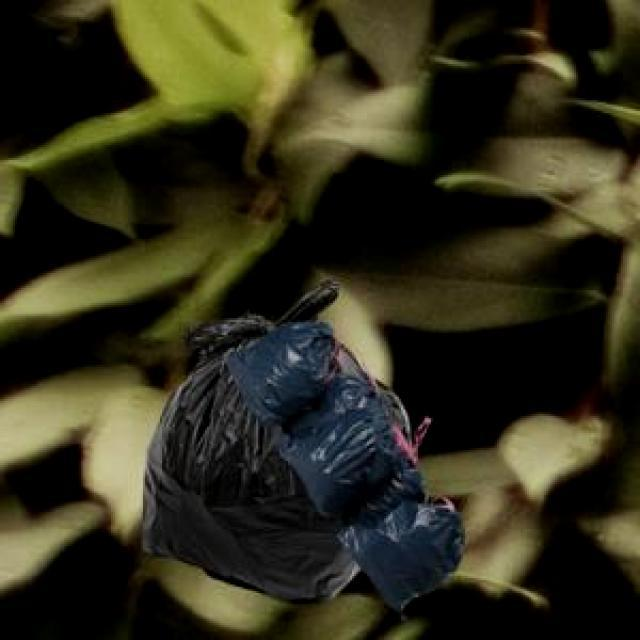Trashbag: (347, 498, 472, 606), (284, 408, 400, 512), (234, 319, 341, 421)
